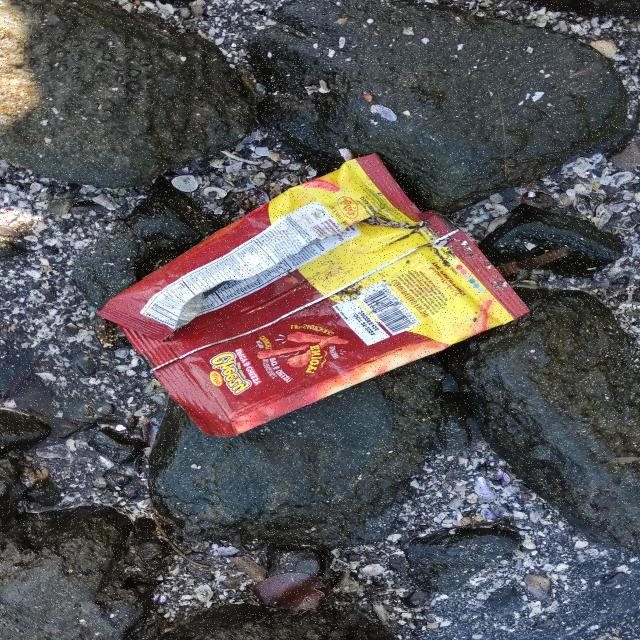plastic_waste: (106, 156, 538, 440)
